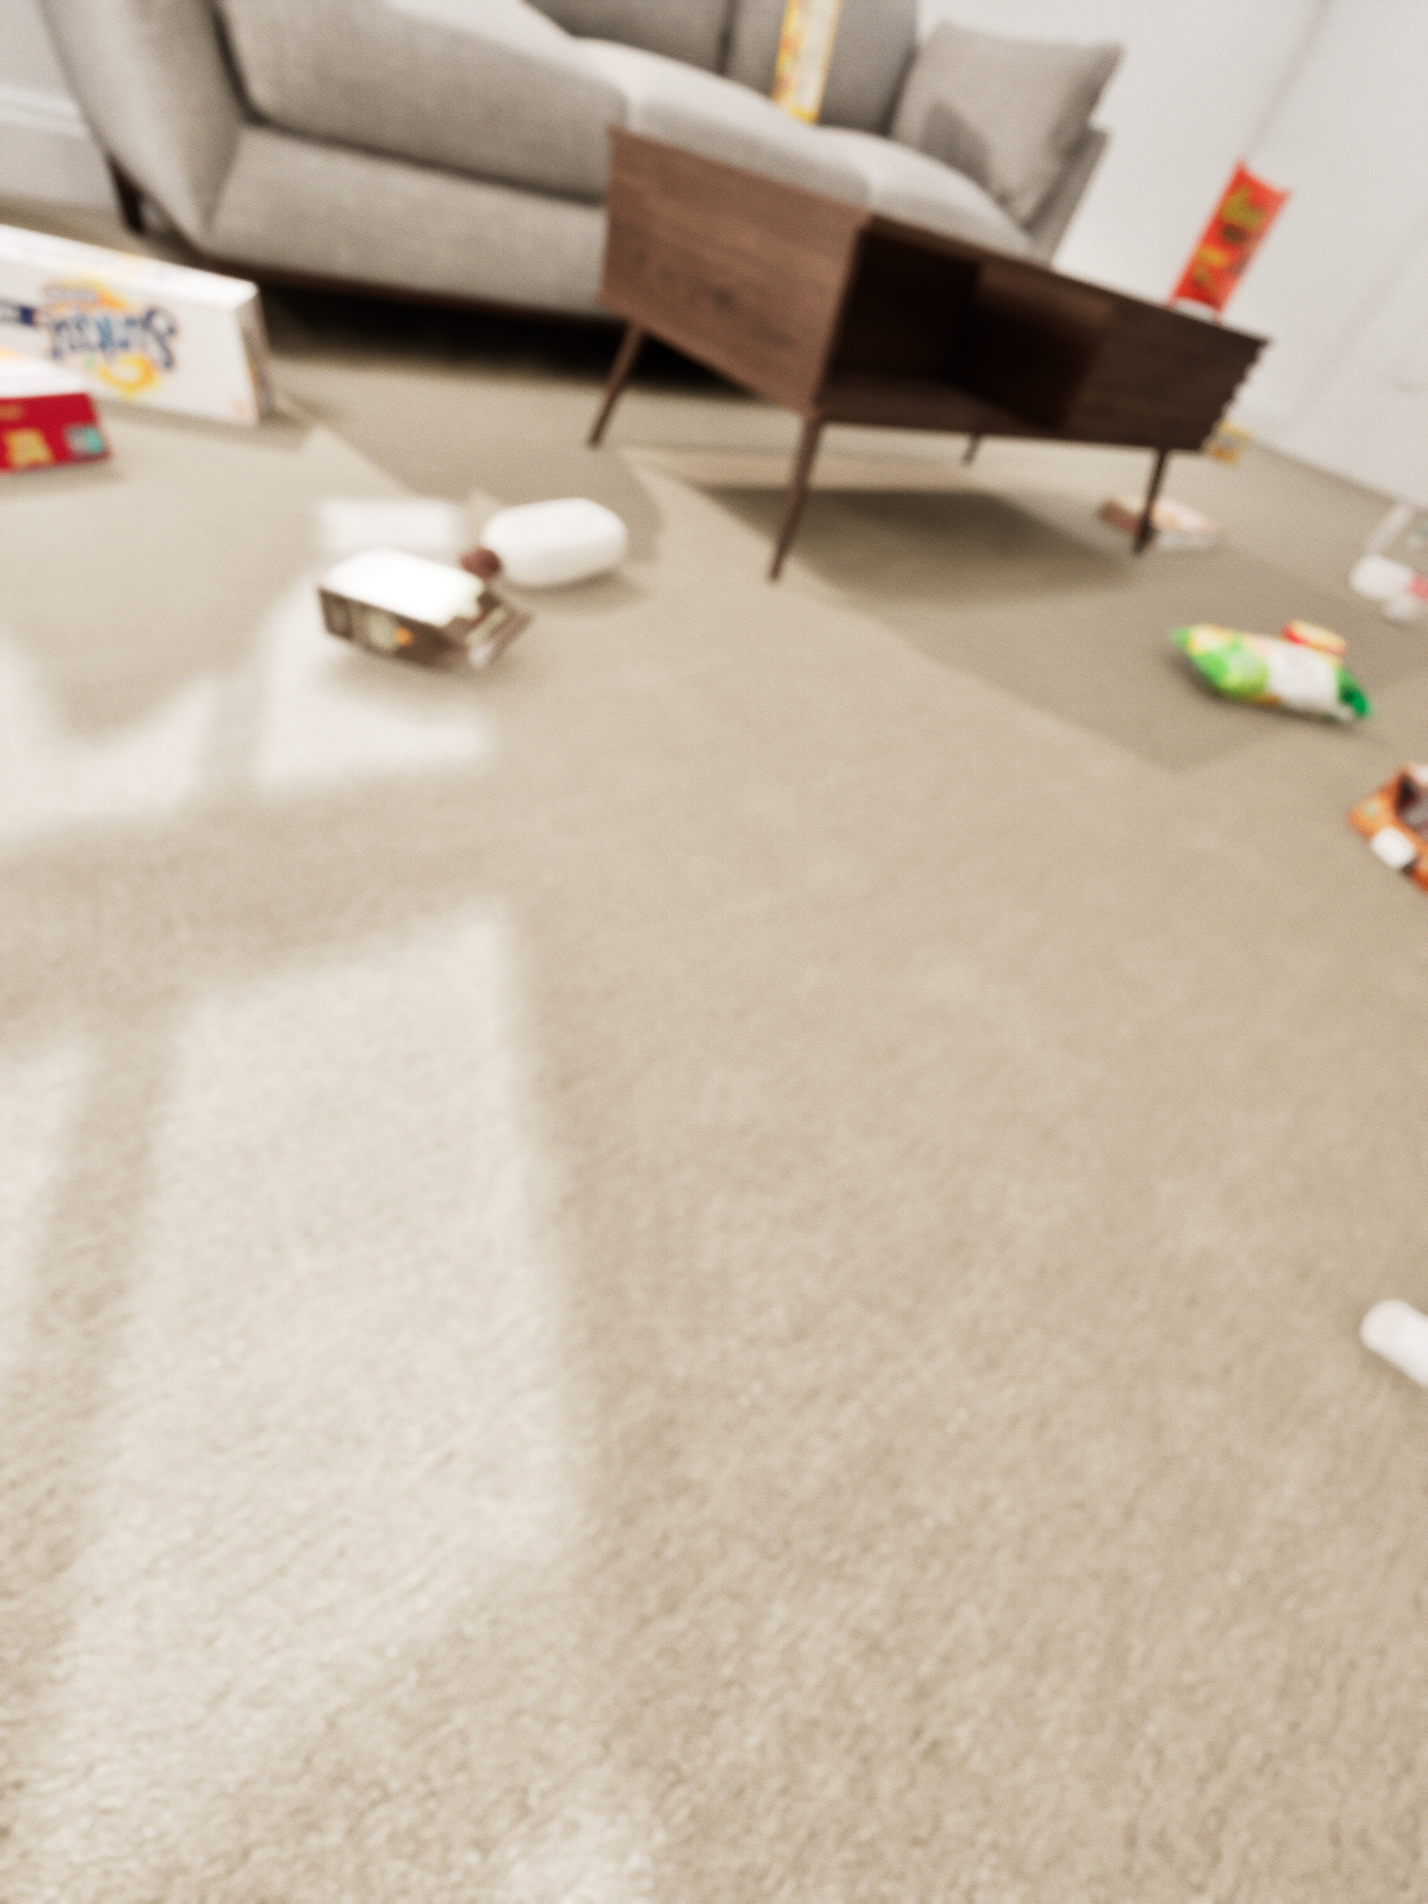cheerios: (391, 0, 1351, 1337)
soup: (1342, 462, 1396, 510)
